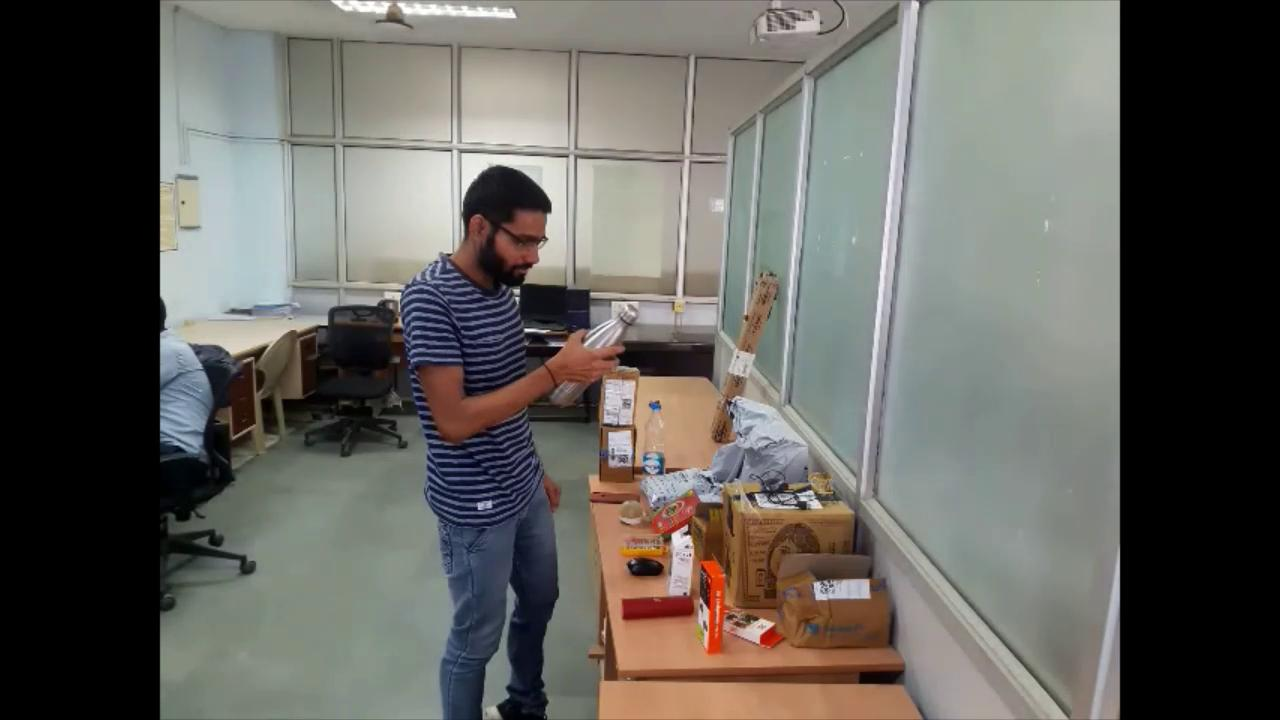Normal: (396, 163, 644, 717)
